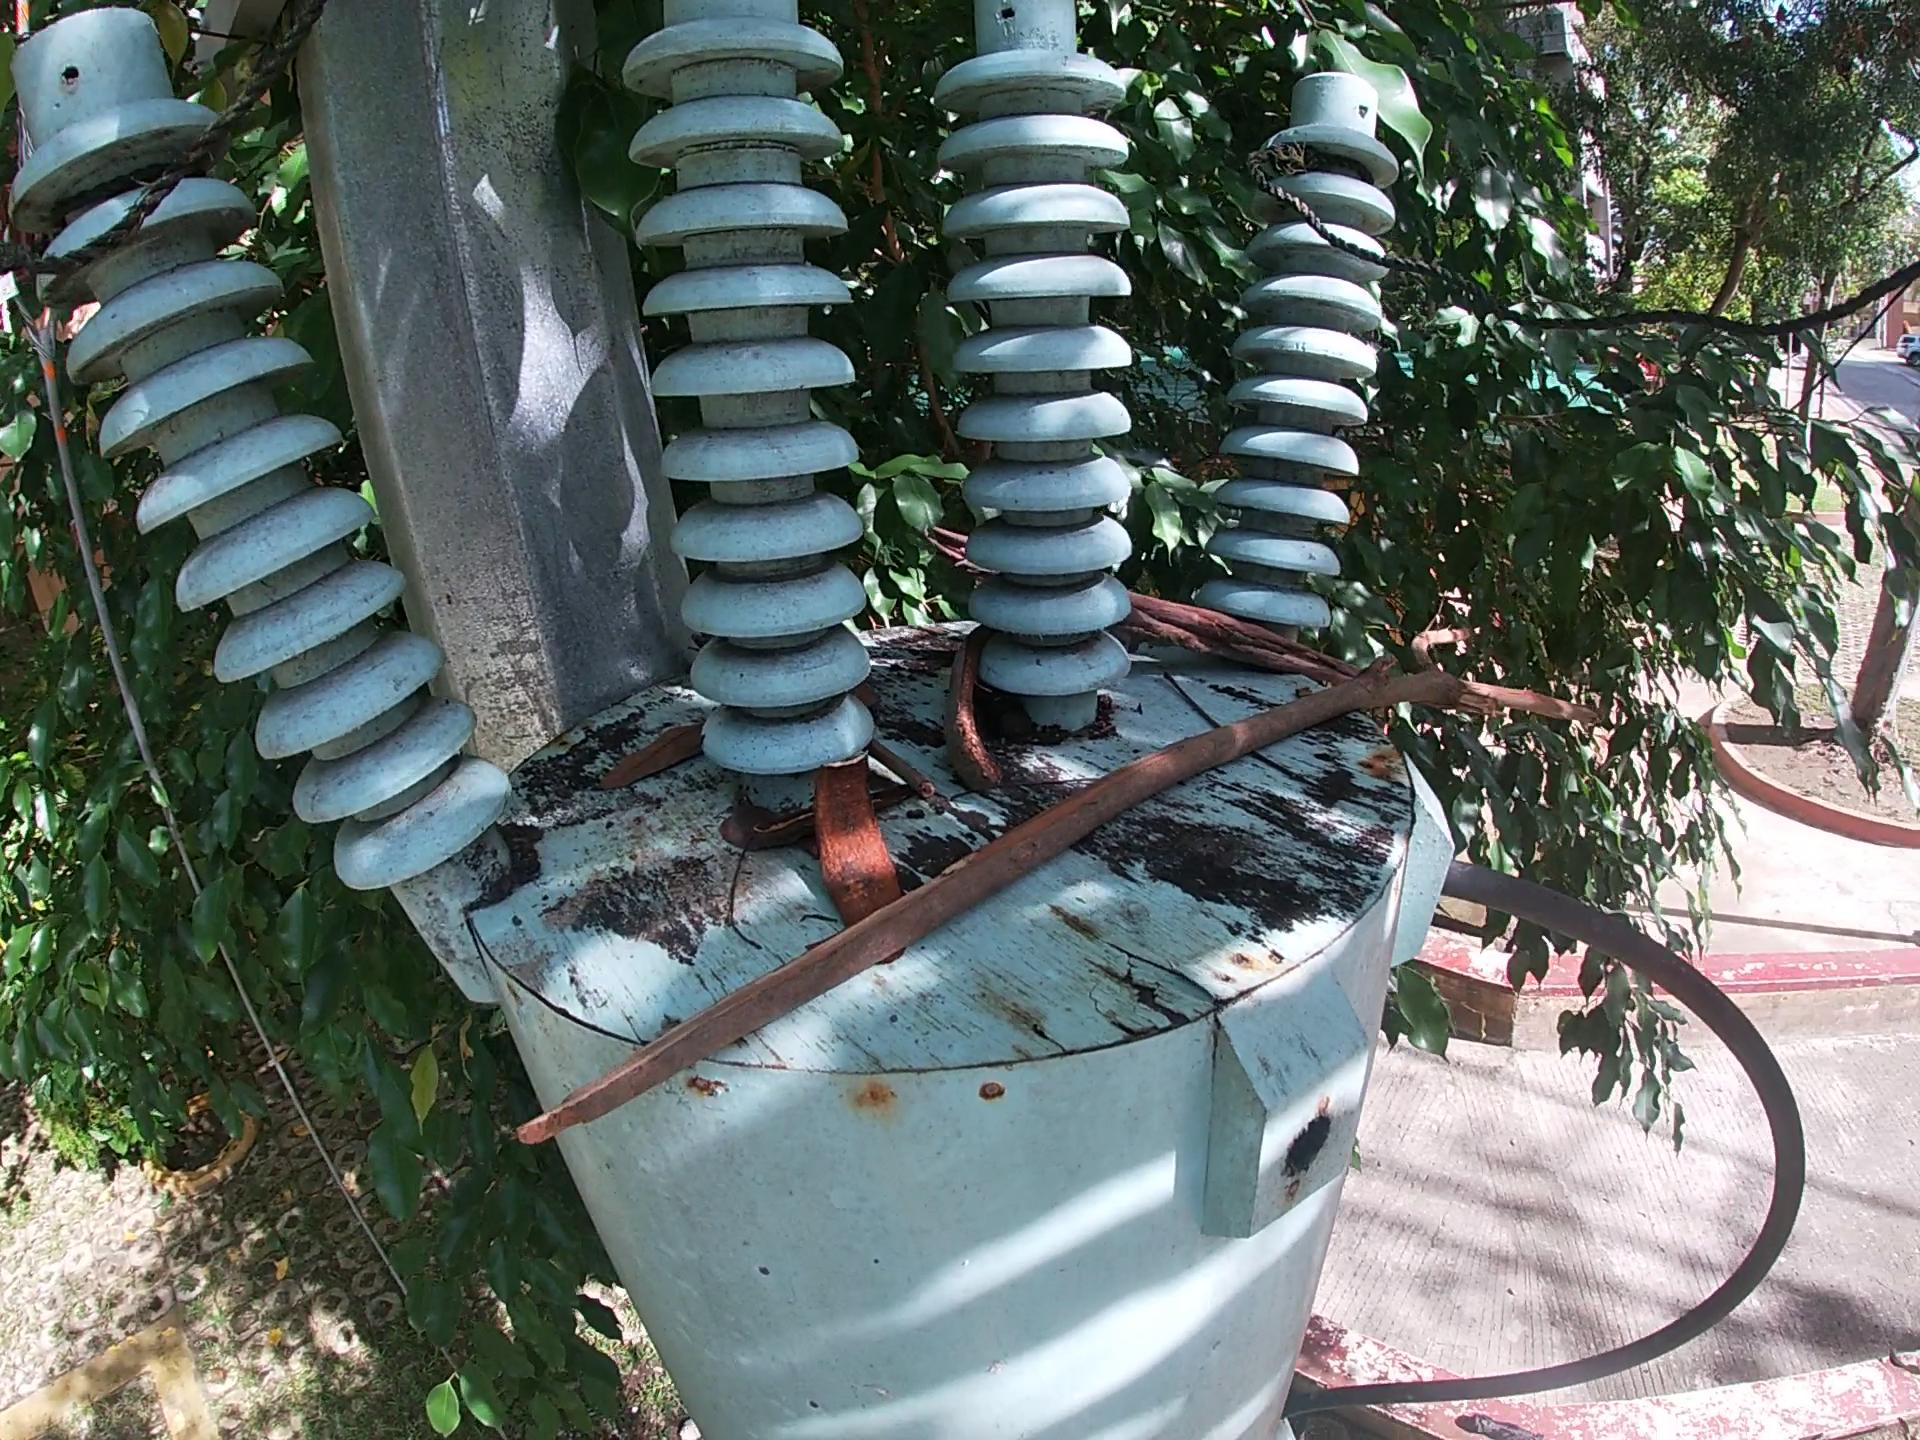leaf: (588, 722, 708, 811), (723, 809, 800, 853), (851, 687, 890, 706)
mahogany fruit: (813, 749, 907, 921), (943, 629, 1039, 794)
tree branch: (426, 601, 1723, 1209), (1129, 594, 1355, 688), (726, 855, 776, 959), (1163, 653, 1228, 728), (878, 749, 940, 803), (915, 510, 972, 566), (1262, 756, 1329, 796)
